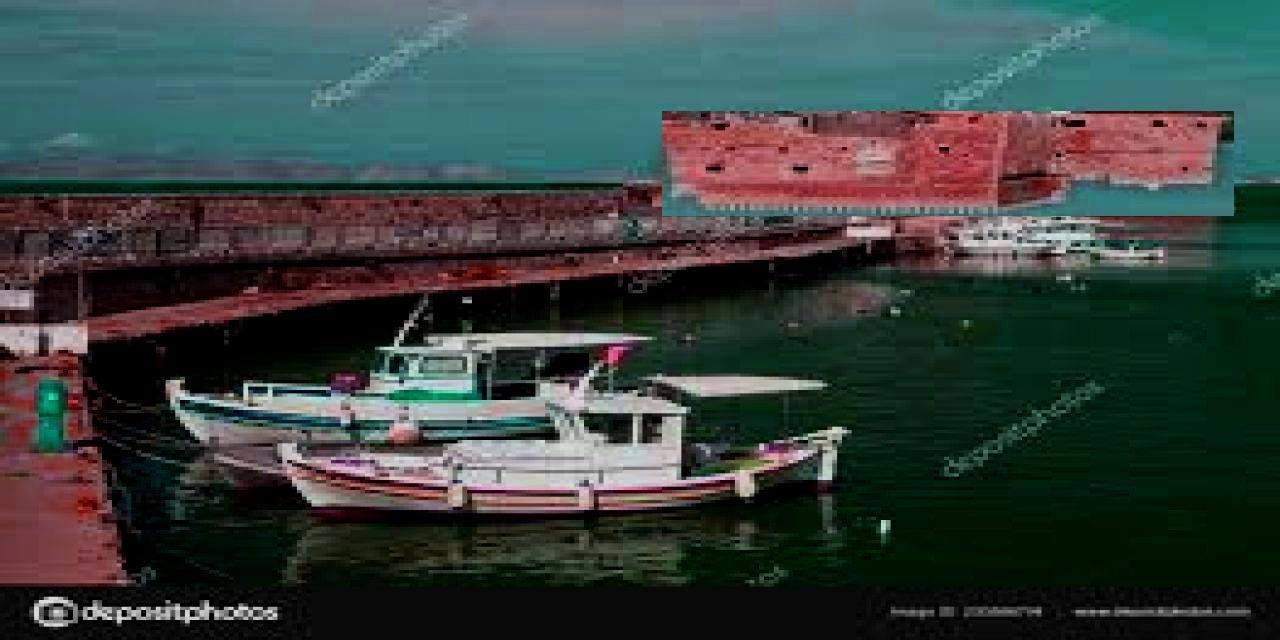Kules: (663, 112, 1235, 217)
